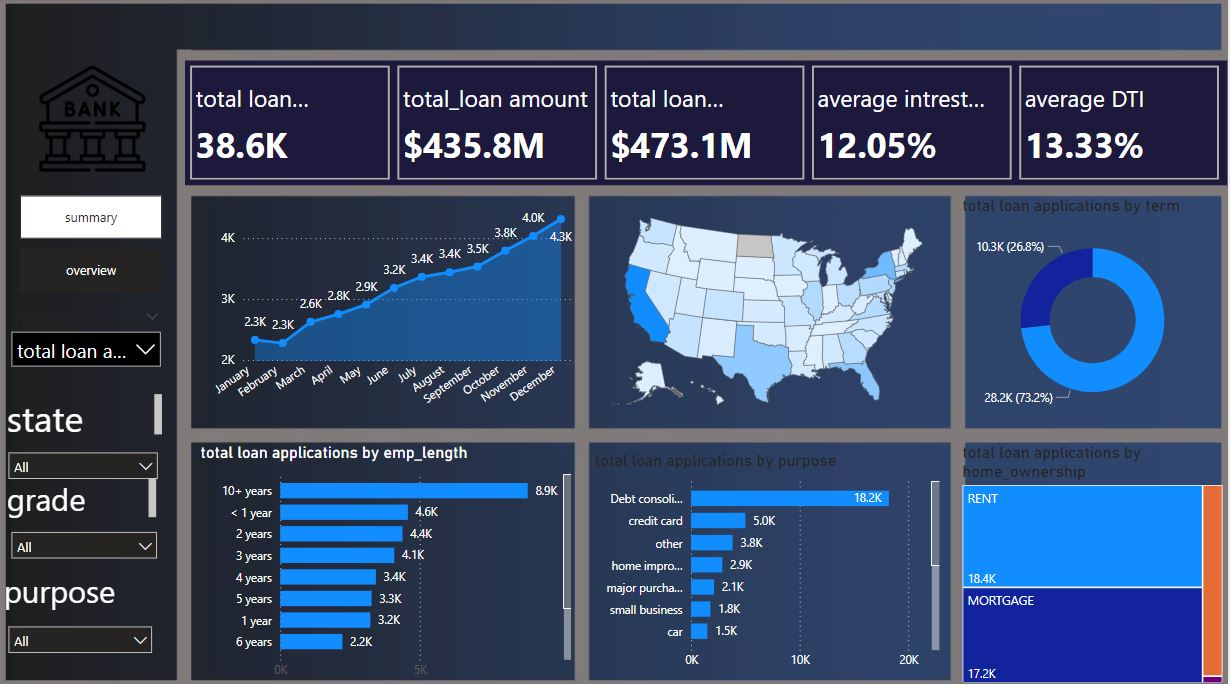

Layout of this report page (visuals, bound fields, positions):
{"tool":"powerbi","page":{"name":"overview","canvas":[1280,720],"ordinal":1},"visuals":[{"type":"cardVisual","fields":{"Data":["Table.total loan applications","Table.total_loan amount","Table.total loan amount","Table.average intrest rate","Table.average DTI"]},"box":[193.8,67.2,1086.3,129.7],"z":0},{"type":"slicer","fields":{"Values":["Parameter.Parameter"]},"box":[3.9,321.6,175.2,77],"z":1000},{"type":"lineChart","fields":{"Y":["Table.total loan applications"],"Category":["dat.month"]},"box":[204.8,206.3,397,240.7],"z":2000},{"type":"donutChart","fields":{"Category":["financial_loan.term"],"Y":["Table.total loan applications"]},"box":[998.8,207.3,280.7,239.9],"z":3000},{"type":"barChart","fields":{"Category":["financial_loan.emp_length"],"Y":["Table.total loan applications"]},"box":[204,465.1,396.6,254.6],"z":4000},{"type":"barChart","fields":{"Category":["financial_loan.purpose"],"Y":["Table.total loan applications"]},"box":[615.3,473.3,368.8,236.6],"z":5000},{"type":"treemap","fields":{"Group":["financial_loan.home_ownership"],"Values":["Table.total loan applications"]},"box":[998.8,465.1,280.7,254.6],"z":6000},{"type":"image","box":[0,66.9,194.2,120.8],"z":7000},{"type":"shapeMap","fields":{"Category":["financial_loan.address_state"],"Value":["Table.total loan applications"]},"box":[615.8,207.9,368.9,240.7],"z":7001},{"type":"pageNavigator","box":[21.9,207.9,148.5,101.6],"z":7002},{"type":"slicer","fields":{"Values":["financial_loan.grade"]},"box":[3.9,548.9,171.4,53.9],"z":7003},{"type":"slicer","fields":{"Values":["financial_loan.purpose"]},"box":[0,647.1,169.5,63.6],"z":7004},{"type":"slicer","fields":{"Values":["financial_loan.address_state"]},"box":[0,466,175.2,52],"z":7005},{"type":"textbox","box":[3.9,496.9,165.6,52],"z":7006},{"type":"textbox","box":[0,593.1,169.5,53.9],"z":7007},{"type":"textbox","box":[3.9,410.2,171.4,55.8],"z":7008}]}

Visuals, with their boxes in screenshot pixels (x1, y1, x2, y2), scaled from the page's 1280x720 canvas onto the 1230x684 screenshot:
cardVisual - Table.total loan applications x Table.total_loan amount: region(186, 64, 1229, 187)
slicer - Parameter.Parameter: region(4, 306, 172, 379)
lineChart - Table.total loan applications x dat.month: region(197, 196, 578, 425)
donutChart - financial_loan.term x Table.total loan applications: region(960, 197, 1229, 425)
barChart - financial_loan.emp_length x Table.total loan applications: region(196, 442, 577, 683)
barChart - financial_loan.purpose x Table.total loan applications: region(591, 450, 946, 674)
treemap - financial_loan.home_ownership x Table.total loan applications: region(960, 442, 1229, 683)
image: region(0, 64, 187, 178)
shapeMap - financial_loan.address_state x Table.total loan applications: region(592, 198, 946, 426)
pageNavigator: region(21, 198, 164, 294)
slicer - financial_loan.grade: region(4, 521, 168, 573)
slicer - financial_loan.purpose: region(0, 615, 163, 675)
slicer - financial_loan.address_state: region(0, 443, 168, 492)
textbox: region(4, 472, 163, 521)
textbox: region(0, 563, 163, 615)
textbox: region(4, 390, 168, 443)
